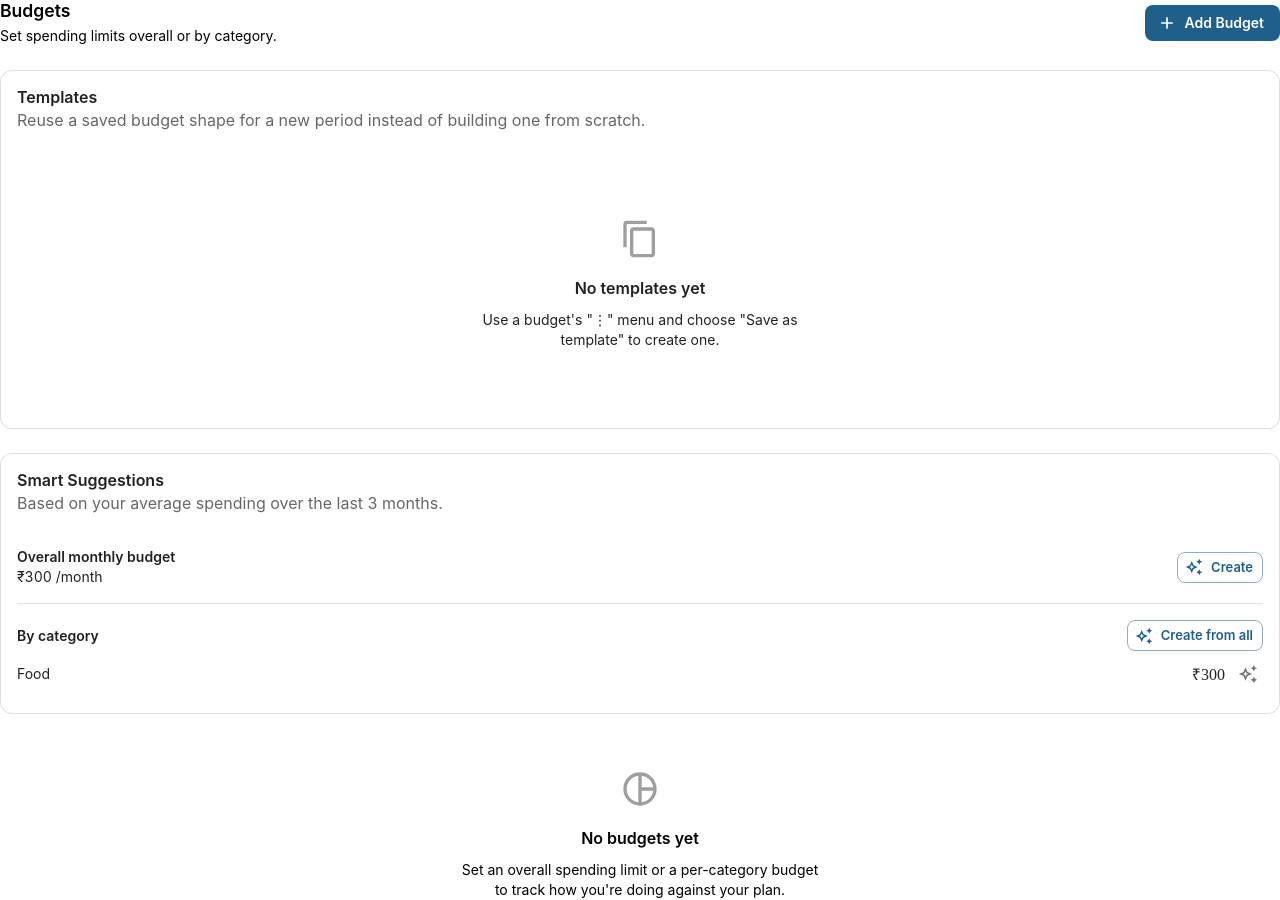
Test: BudgetsPage › opens the create dialog pre-filled from the overall suggestion
Click the button "Create" at (1220, 568), box [1177, 552, 1263, 583]
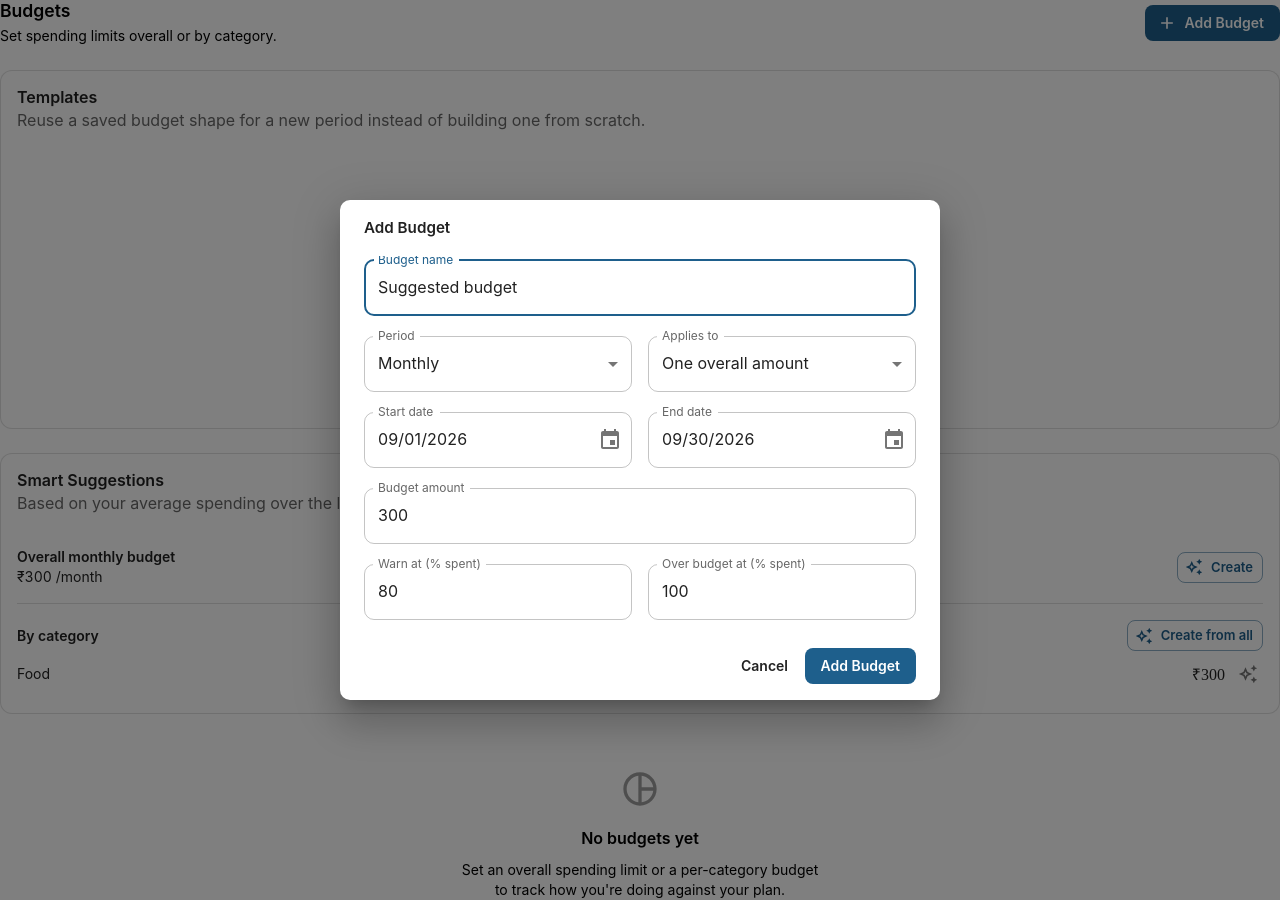
Expected: the number field showing "300" is shown, [364, 488, 916, 544]
